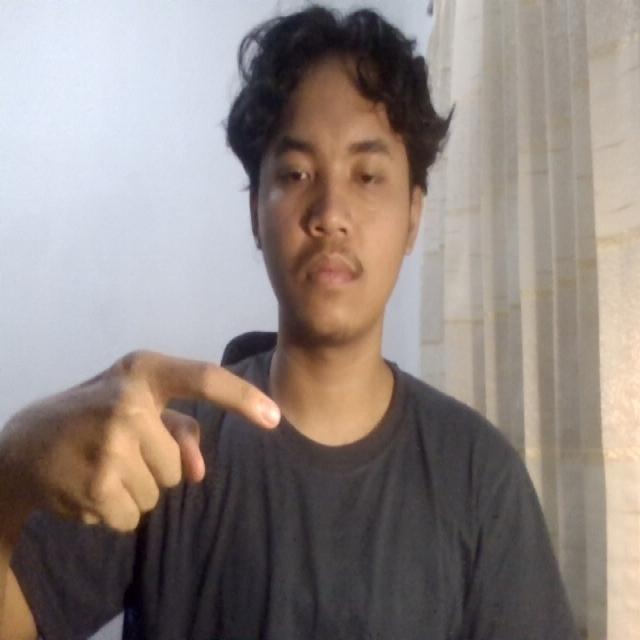N: (28, 317, 311, 559)
